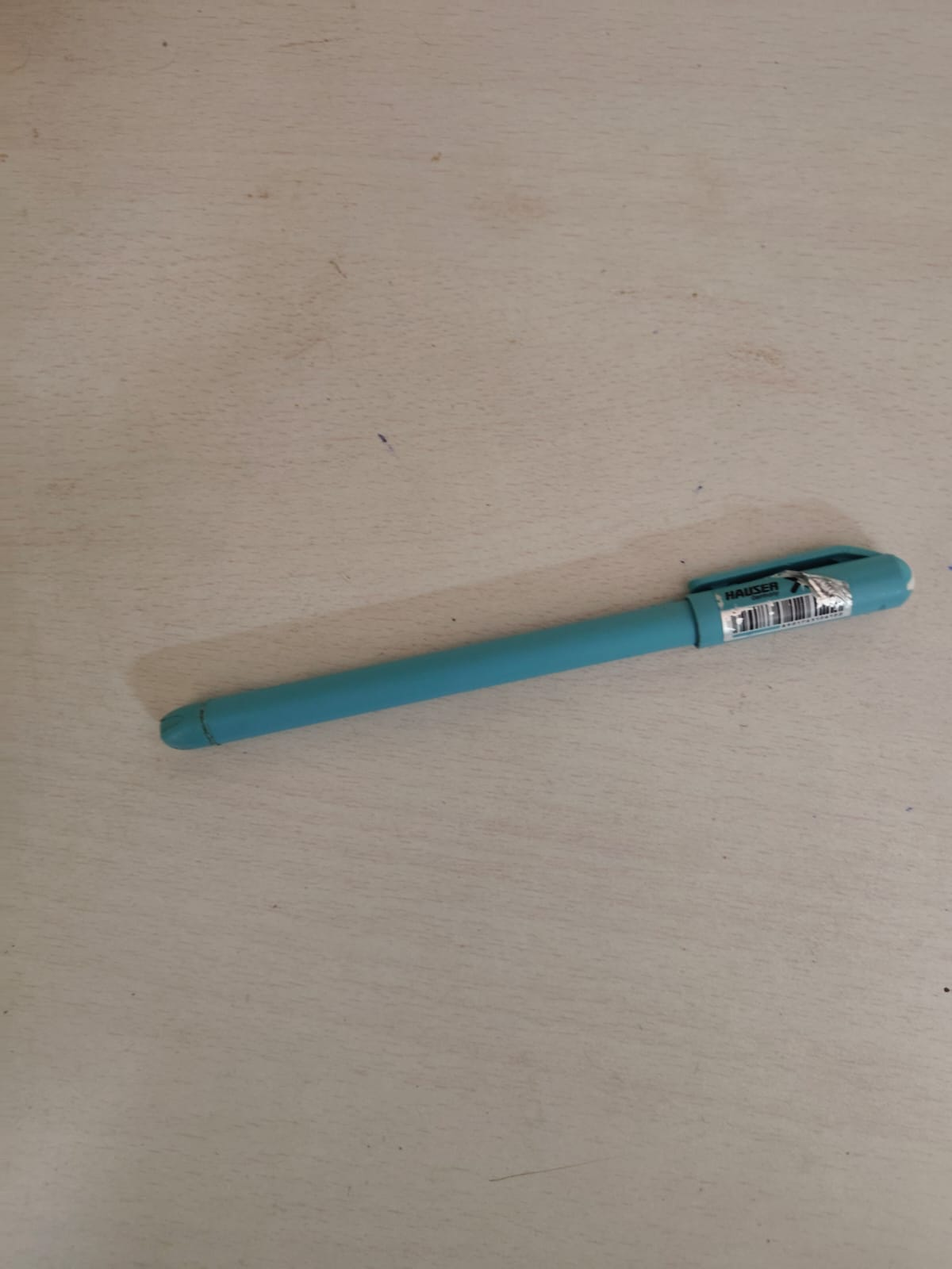pen: (138, 526, 910, 775)
